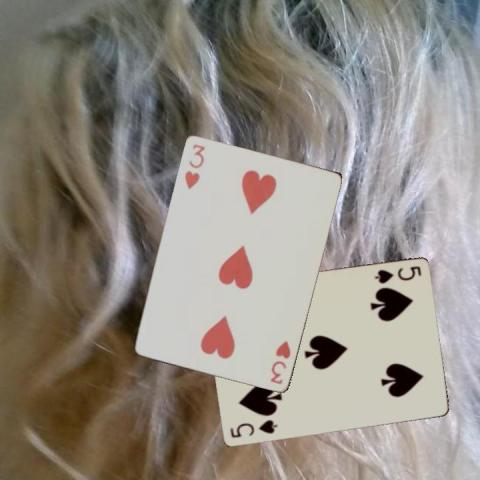3h: (181, 141, 207, 190), (267, 338, 292, 386)
5s: (226, 417, 278, 439), (371, 264, 423, 286)
